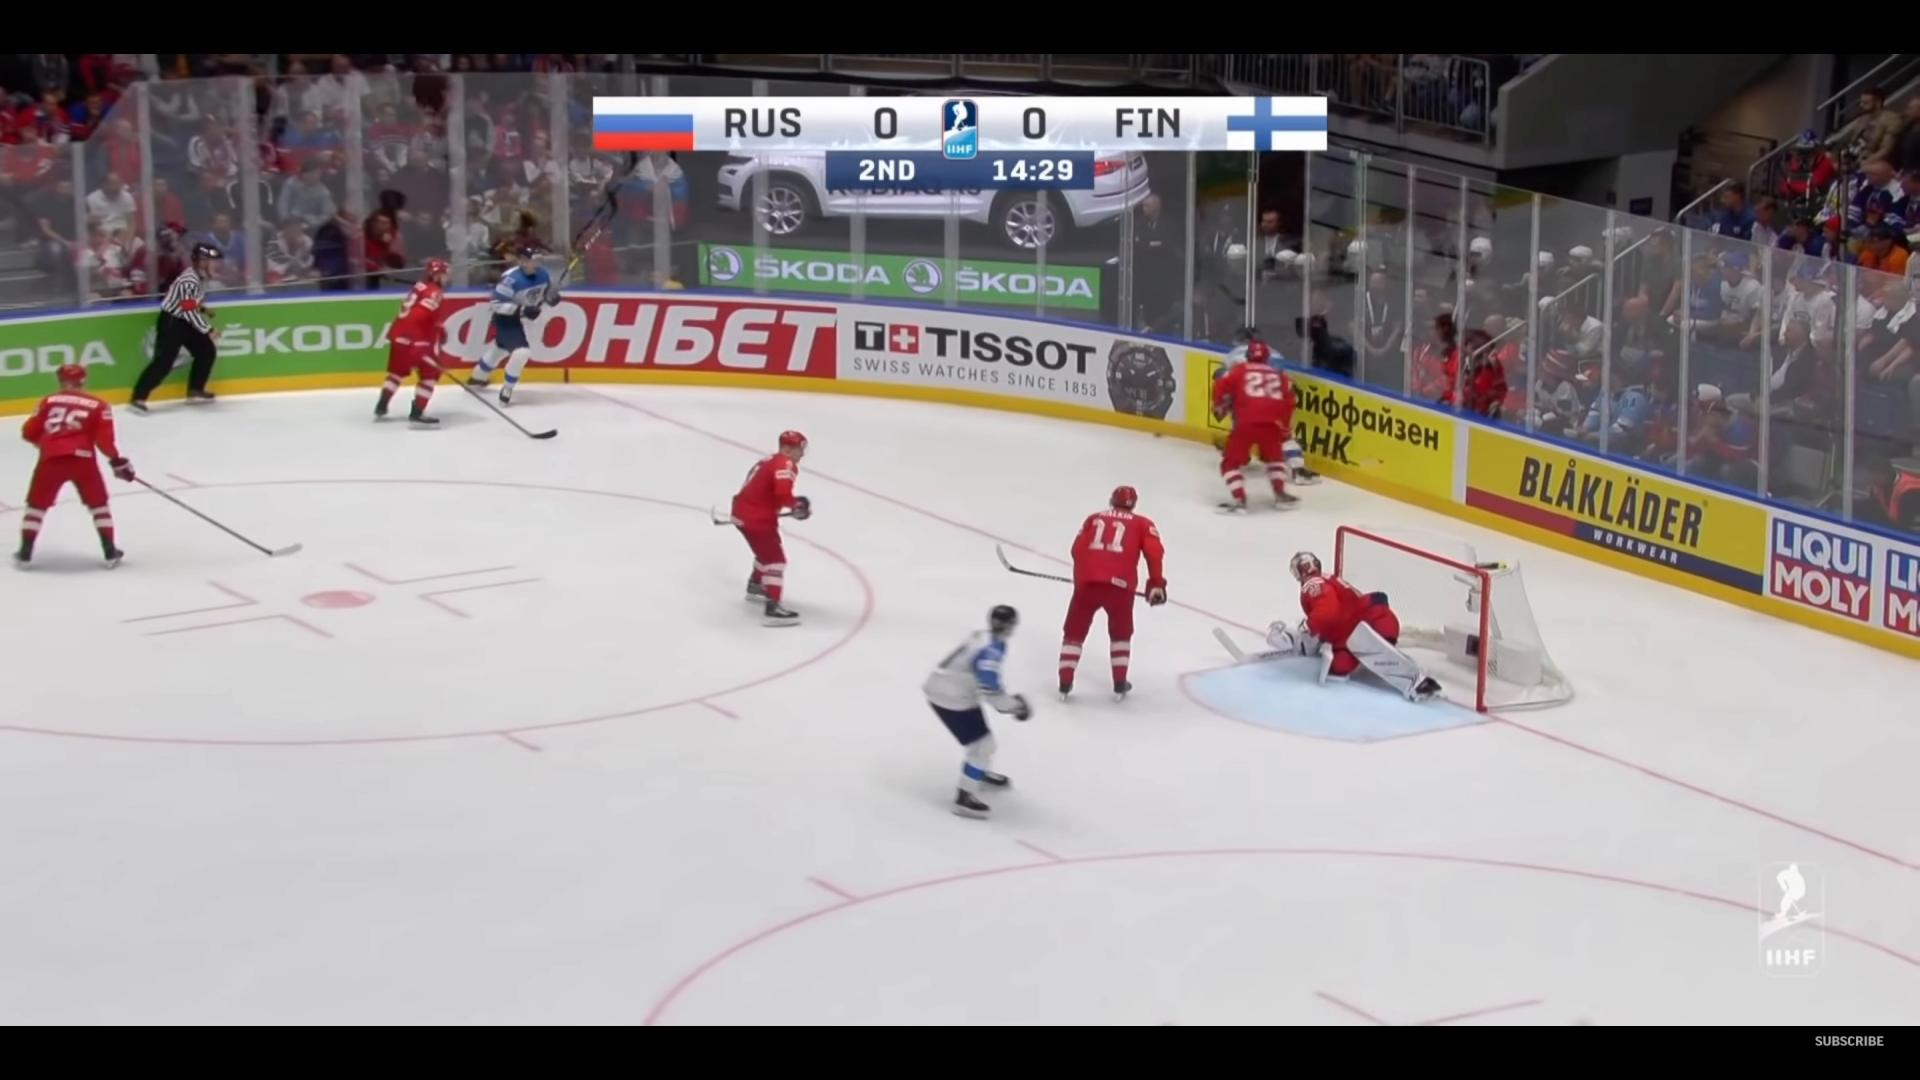puck: (1151, 431, 1163, 438)
